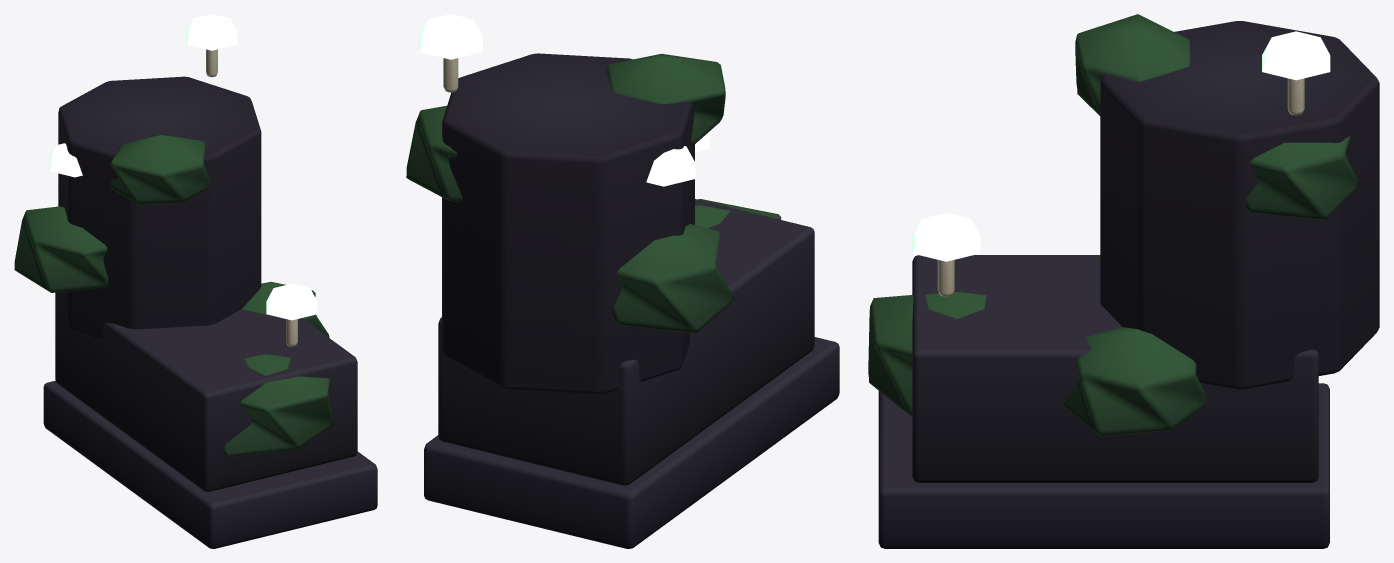
File: lg_shadowmoss_treads.glb
3 views of the same model, side by side, from view 1: azimuth 30°, elevation 25°; view 2: azimuth 150°, elevation 25°; view 3: azimuth 270°, elevation 25° (orthographic). The views are drawn at different scales.
Visible parts, largest first — view 1: lg_shadowmoss_treads, lg_shadowmoss_treads_glow; view 2: lg_shadowmoss_treads, lg_shadowmoss_treads_glow; view 3: lg_shadowmoss_treads, lg_shadowmoss_treads_glow.
Part boxes in pixels (x1,y1,x2,y2): lg_shadowmoss_treads: (14,49,377,548); lg_shadowmoss_treads_glow: (49,14,317,320); lg_shadowmoss_treads: (406,53,839,548); lg_shadowmoss_treads_glow: (419,14,710,186); lg_shadowmoss_treads: (868,14,1379,548); lg_shadowmoss_treads_glow: (912,31,1330,261).
Bounding box in the file's own units: 0.6621 × 1 × 0.9064.
